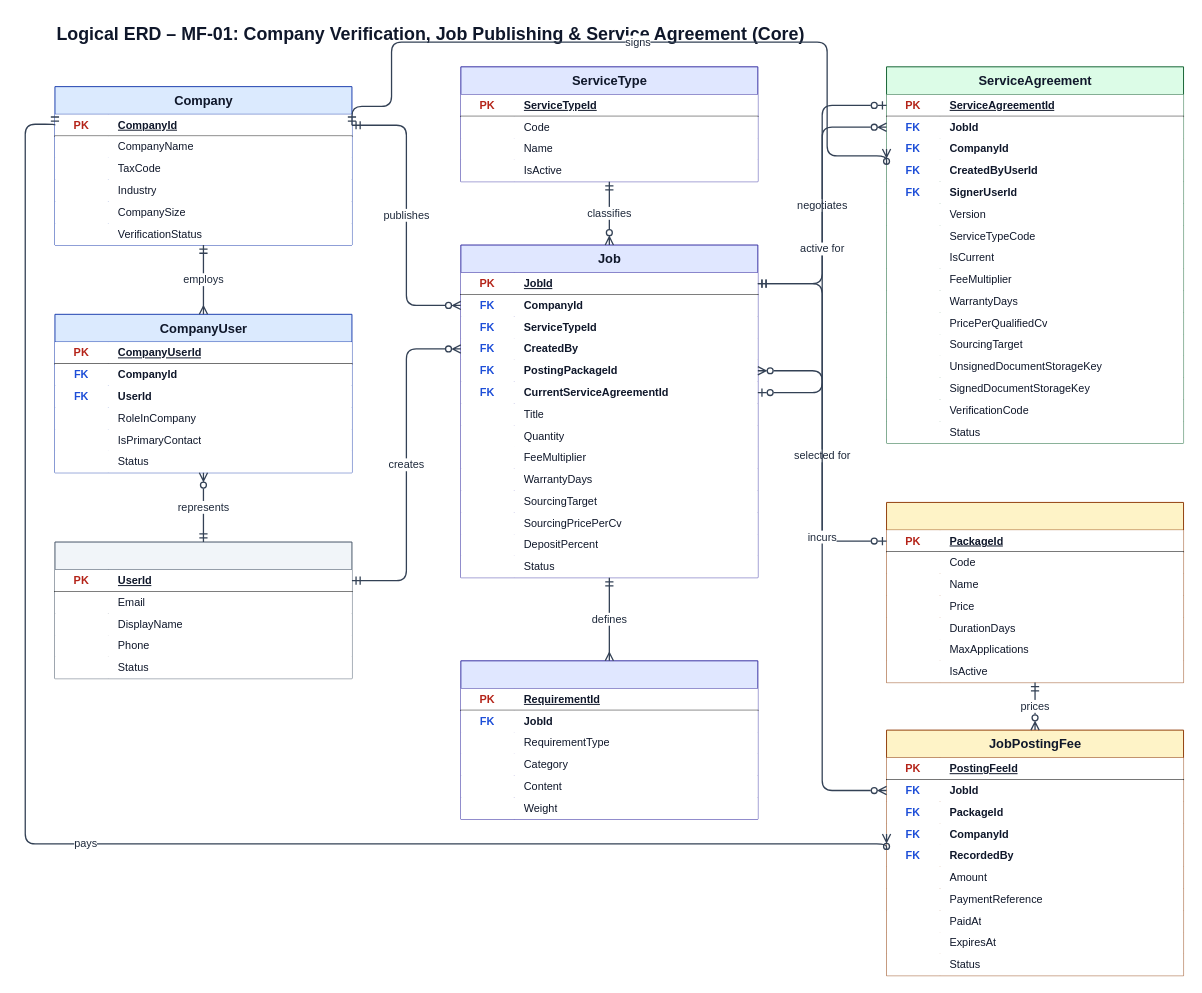
The diagram is 1202 pixels wide and 993 high, and some of its shapes have lost their labels. The box of each missing label's shape, as (x1, y1, x2, y2) in pixels:
AppUser: (54, 541, 352, 679)
JobPostingPackage: (886, 501, 1184, 683)
JobRequirement: (460, 660, 758, 819)
